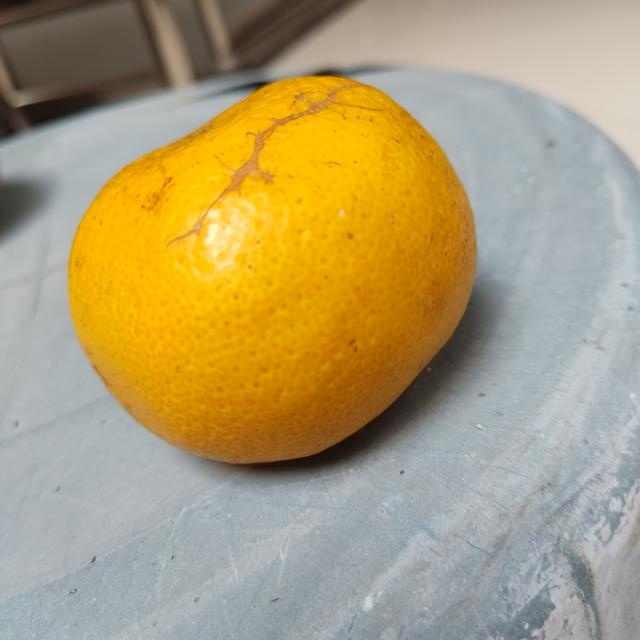agrume: (62, 75, 479, 468)
